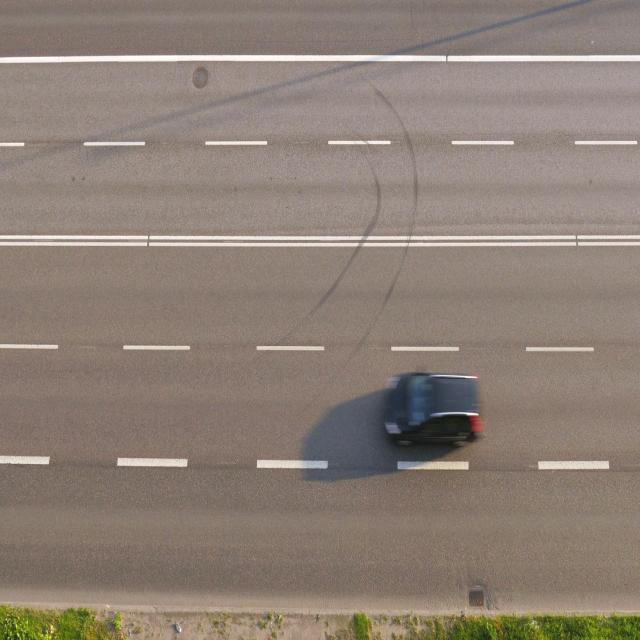Car: (380, 361, 486, 454)
